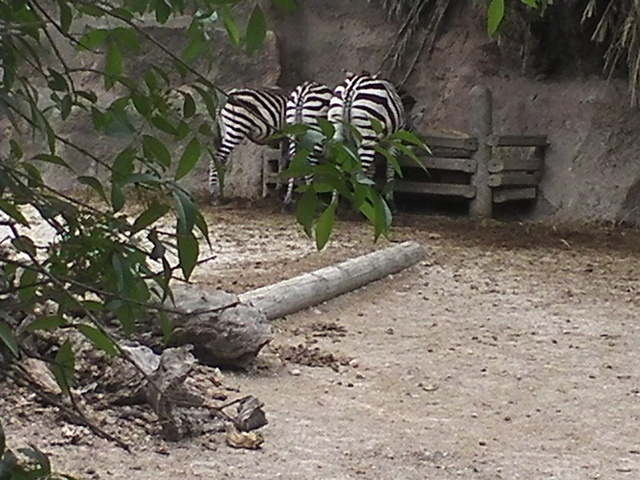zebra: (328, 73, 412, 220), (206, 87, 286, 205), (286, 77, 330, 208)
